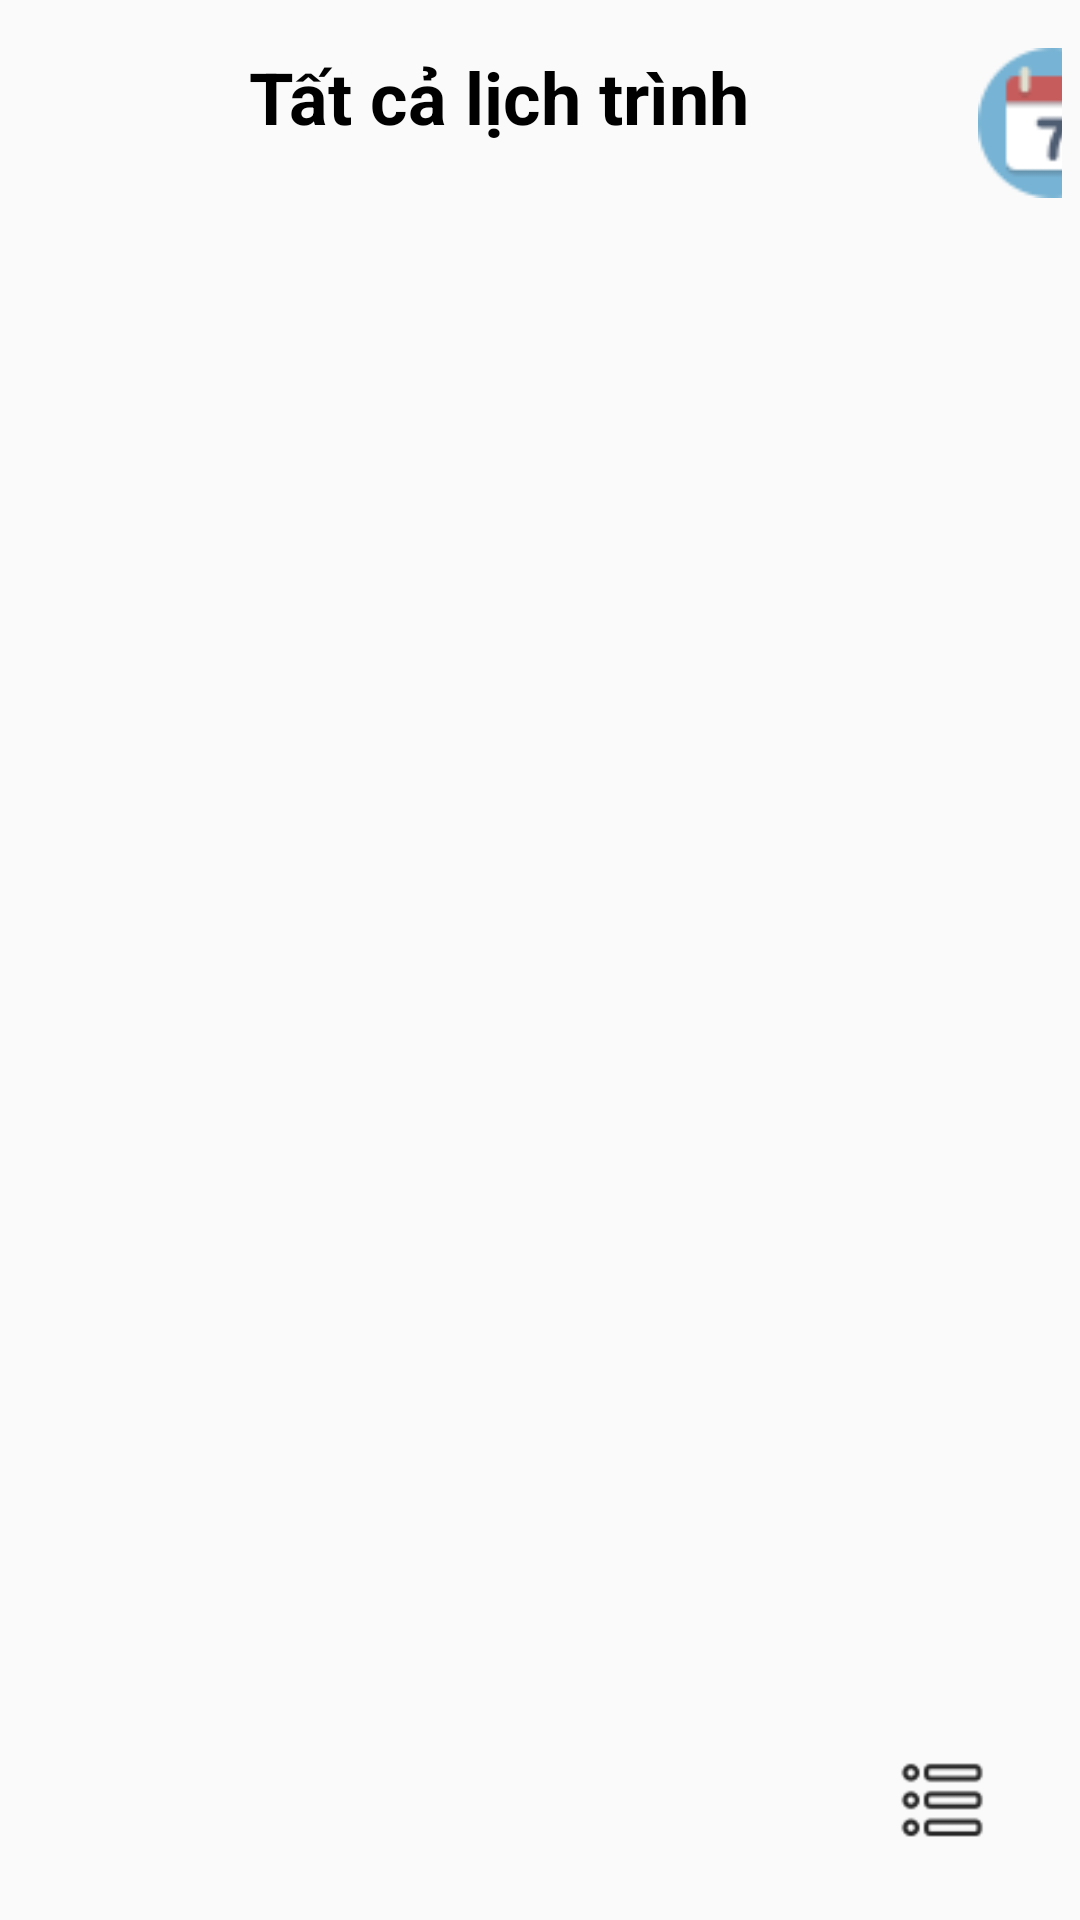

Icons on this 1080x1920 Android screen, each with the point to tap as [x,y]:
menu: [942,1800]
